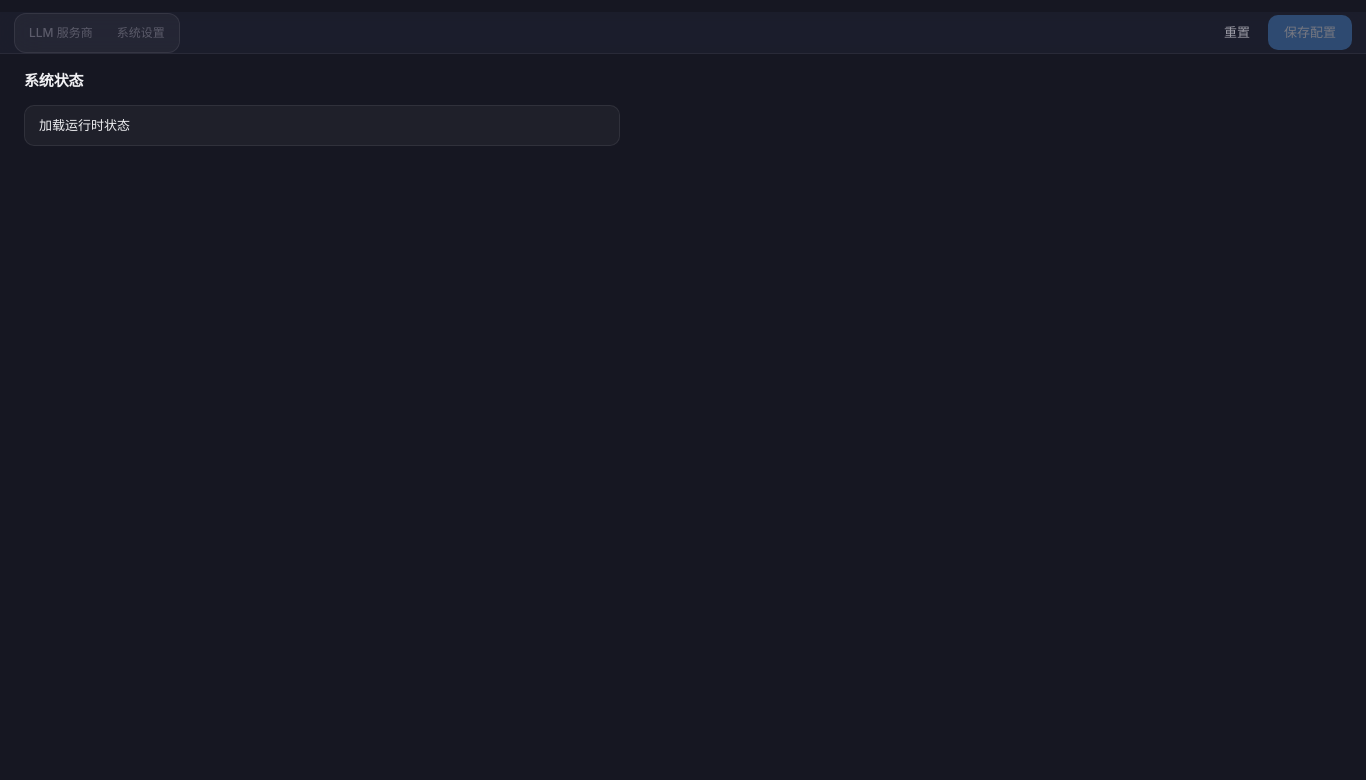
Scenario: SettingsView — E2E 关键路径 › renders System Status with the backend budget/status payload shape documented by tests
This screenshot has width=1366, height=780.
Click the button with class "hc-status__trigger".
click(85, 124)  # box x1=24 y1=104 x2=620 y2=146
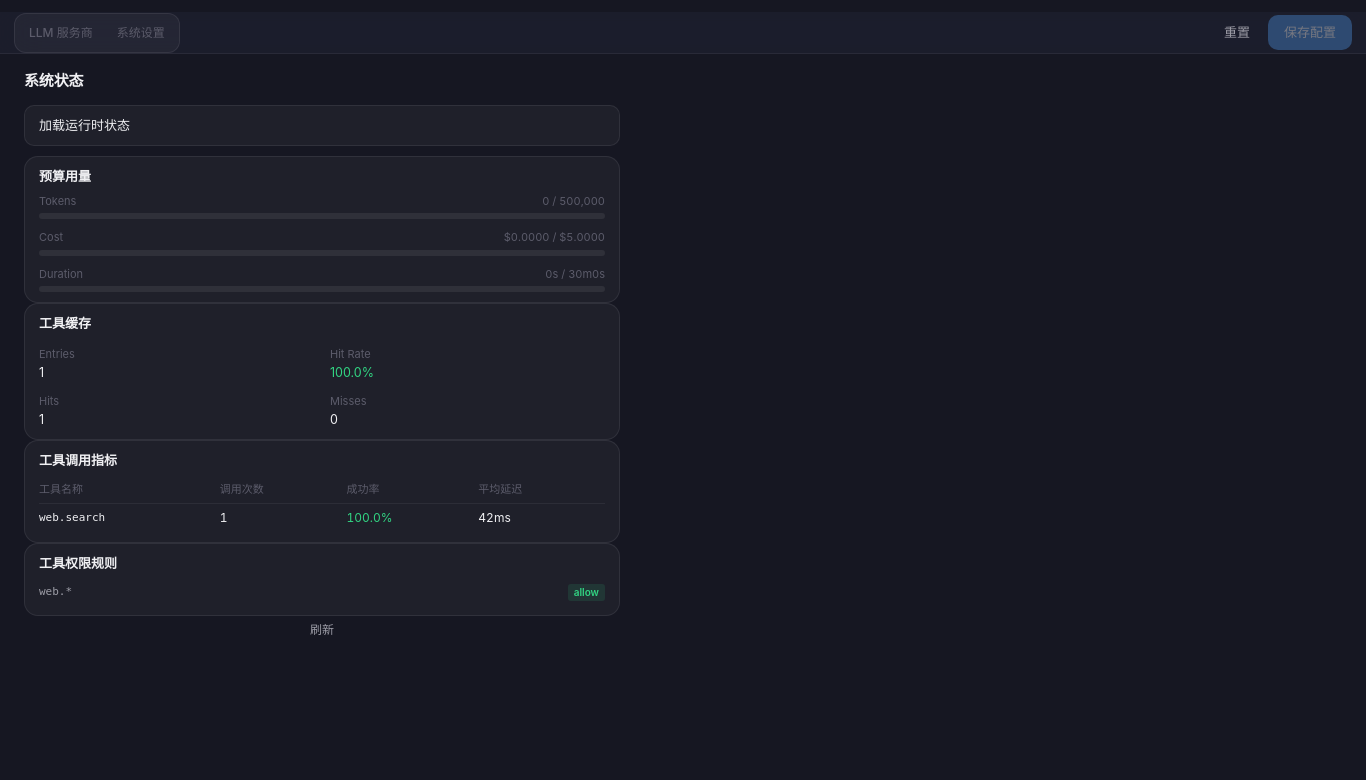
Result: the text "500,000" is shown at x1=542 y1=194 x2=605 y2=208
